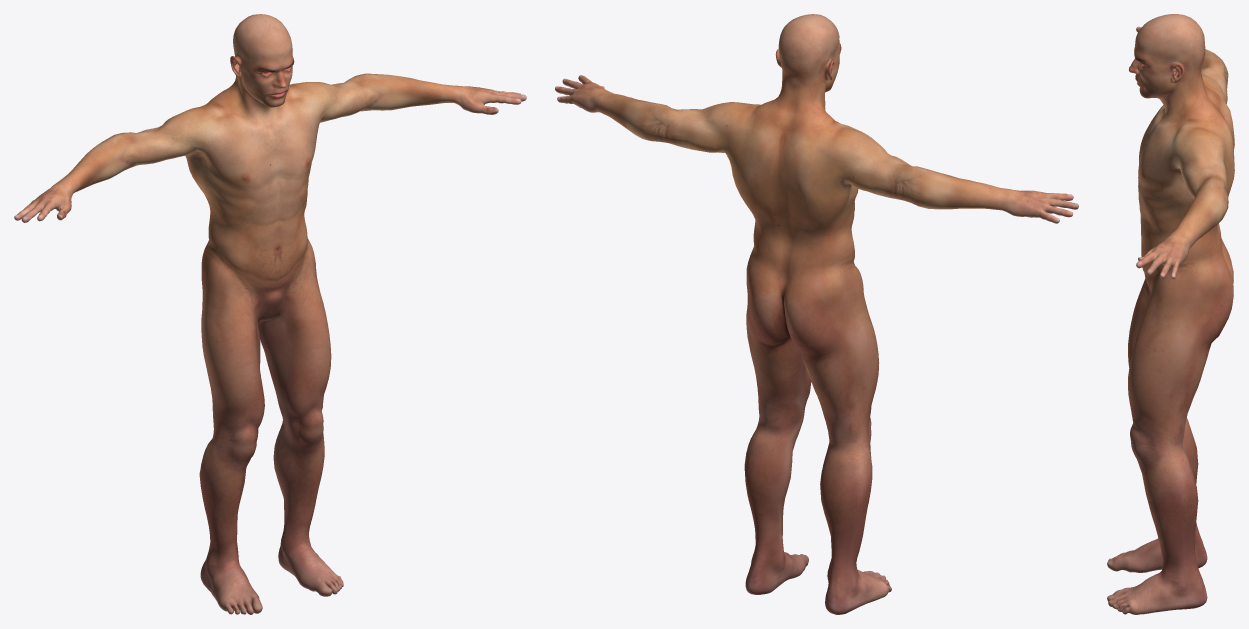
Rendered from Deri.fbx.
The picture shows the model from 3 angles, left to right: view 1: azimuth 30°, elevation 25°; view 2: azimuth 150°, elevation 25°; view 3: azimuth 270°, elevation 25°; orthographic projection. The views are drawn at different scales.
Parts seen in each view (by area): view 1: Body_NoGenitals; view 2: Body_NoGenitals; view 3: Body_NoGenitals.
Part boxes in pixels (left/top/right/bottom): Body_NoGenitals: left=14, top=14, right=526, bottom=614; Body_NoGenitals: left=555, top=14, right=1078, bottom=614; Body_NoGenitals: left=1107, top=14, right=1234, bottom=614.
Bounding box in the file's own units: 173 × 185 × 37.54.
Materials: 2 (2 with a texture image).
